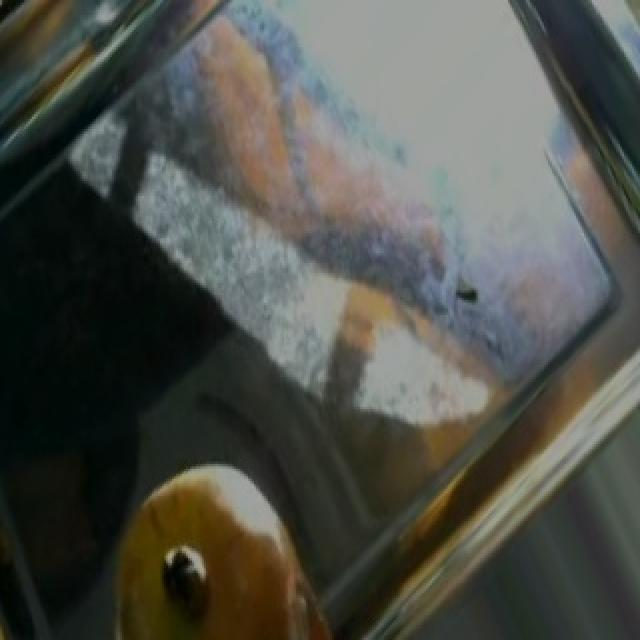fruit: (90, 446, 338, 640)
